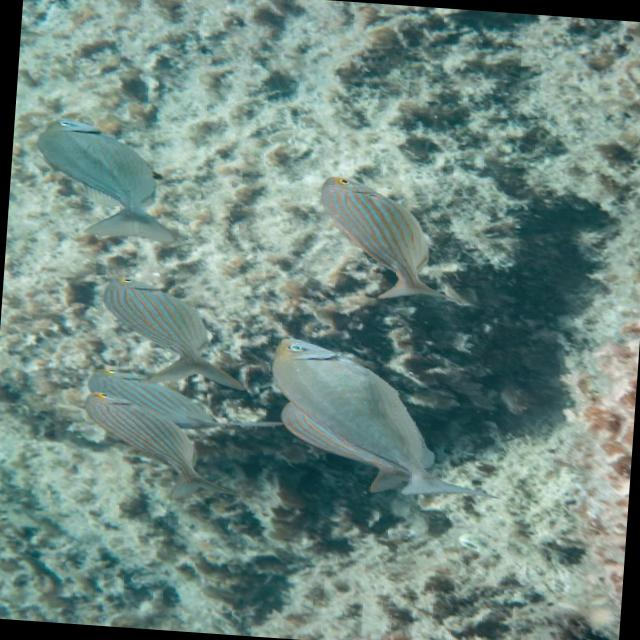Sokar Baligi: (17, 110, 205, 254), (299, 168, 465, 305), (84, 269, 258, 392)
